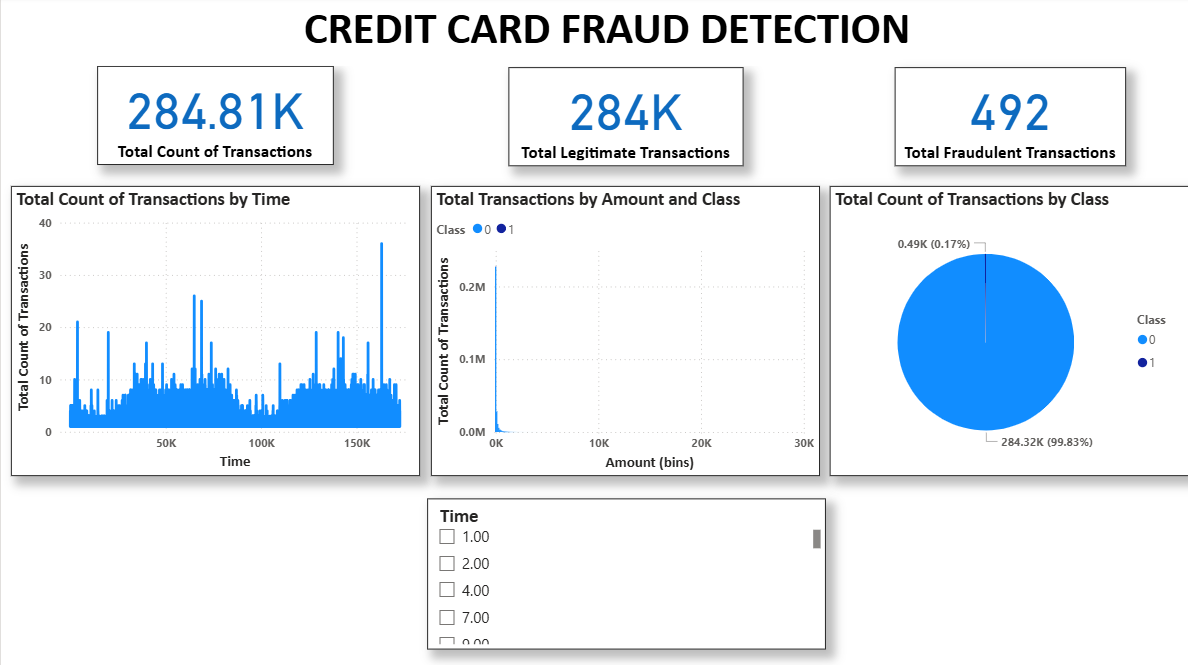

The dashboard page shown, as its layout file describes it:
{"tool":"powerbi","page":{"name":"Page 1","canvas":[1280,720],"ordinal":0},"visuals":[{"type":"card","fields":{"Values":["DeboCredit.Total Transactions Count"]},"box":[103.6,75.3,254.2,106.2],"z":0},{"type":"lineChart","fields":{"Category":["DeboCredit.Time"],"Y":["DeboCredit.Total Transactions"]},"box":[10.8,204.4,439.8,312],"z":1000},{"type":"card","fields":{"Values":["DeboCredit.Total Legitimate Transactions"]},"box":[546,76.7,252.8,106.2],"z":1001},{"type":"textbox","box":[24.7,0,1255.6,75.5],"z":1003},{"type":"columnChart","title":"Total Transactions by Amount and Class","fields":{"Category":["DeboCredit.Amount (bins)"],"Y":["DeboCredit.Total Transactions"],"Series":["DeboCredit.Class"]},"box":[462.6,204.4,418.2,312],"z":1004},{"type":"pieChart","fields":{"Y":["DeboCredit.Total Transactions"],"Series":["DeboCredit.Class"]},"box":[891.6,204.4,388.7,312],"z":1005},{"type":"slicer","fields":{"Values":["DeboCredit.Time"]},"box":[458.6,540.6,429,162.7],"z":1006},{"type":"card","fields":{"Values":["DeboCredit.Total Fraudulent Transactions"]},"box":[961.5,76.7,248.8,106.2],"z":1007}]}

Visuals, with their boxes in screenshot pixels (x1, y1, x2, y2), scaled from the page's 1280x720 canvas onto the 1188x665 screenshot:
card - DeboCredit.Total Transactions Count: [96,70,332,168]
lineChart - DeboCredit.Time x DeboCredit.Total Transactions: [10,189,418,477]
card - DeboCredit.Total Legitimate Transactions: [507,71,741,169]
textbox: [23,0,1187,70]
"Total Transactions by Amount and Class" columnChart: [429,189,817,477]
pieChart - DeboCredit.Total Transactions x DeboCredit.Class: [828,189,1187,477]
slicer - DeboCredit.Time: [426,499,824,650]
card - DeboCredit.Total Fraudulent Transactions: [892,71,1123,169]
